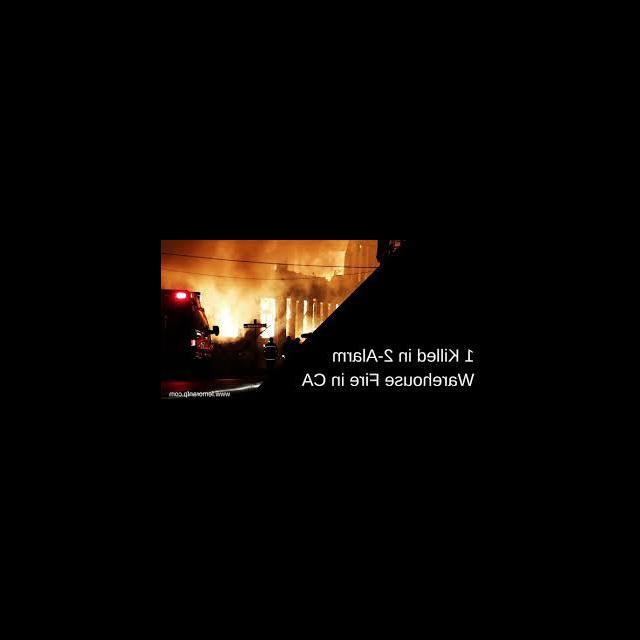Fire: (260, 298, 278, 338), (220, 302, 238, 338), (334, 252, 346, 276), (285, 298, 292, 336), (304, 300, 308, 334), (325, 271, 333, 282)
